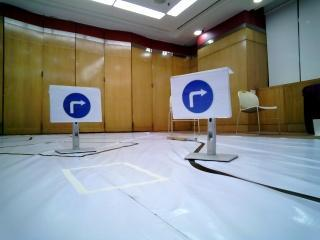right: (173, 77, 226, 117), (61, 89, 98, 120)
